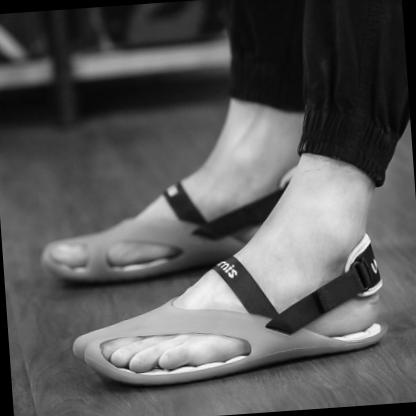ankle: (247, 172, 264, 187), (328, 243, 342, 258)
heel: (366, 322, 379, 333), (244, 236, 250, 241)
left_foot: (69, 237, 389, 392)
pinky: (174, 351, 191, 370), (61, 242, 67, 246)
right_foot: (39, 167, 305, 287)
toe: (83, 339, 93, 348), (58, 268, 67, 276)
